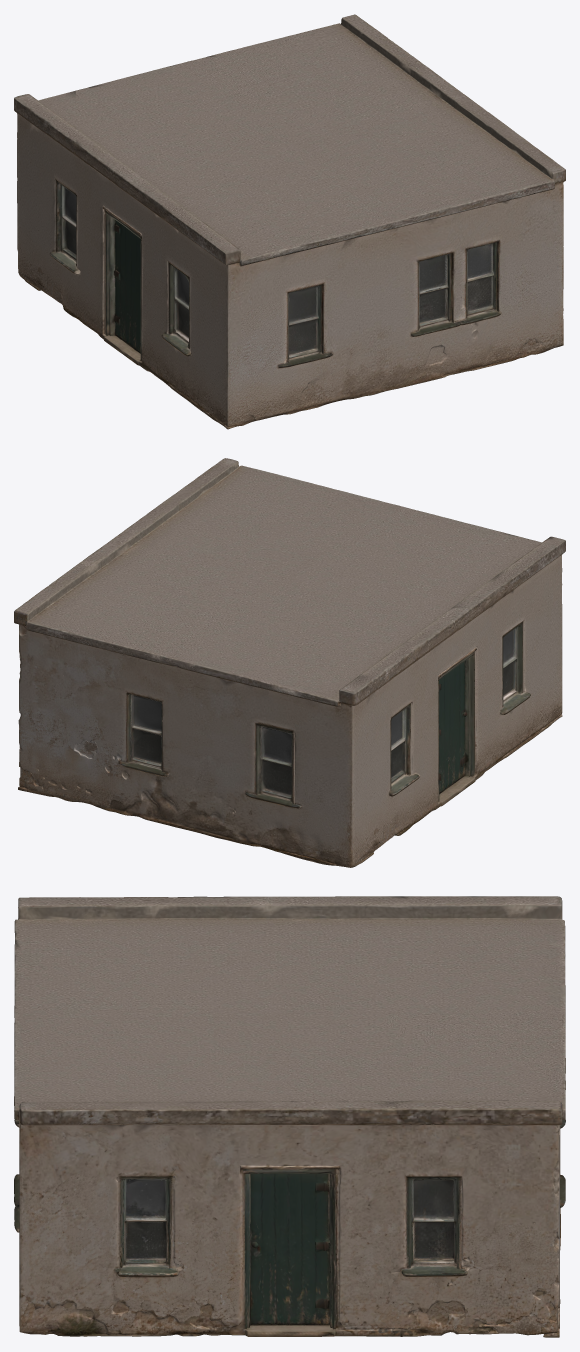
File: station01-tripo-v31.glb
3 views of the same model, one above another, from view 1: azimuth 30°, elevation 25°; view 2: azimuth 150°, elevation 25°; view 3: azimuth 270°, elevation 25° (orthographic). The views are drawn at different scales.
Visible parts, largest first — view 1: tripo_node_f7819a30-2740-40e4-ab8c-9bb6315d51c4; view 2: tripo_node_f7819a30-2740-40e4-ab8c-9bb6315d51c4; view 3: tripo_node_f7819a30-2740-40e4-ab8c-9bb6315d51c4.
Part boxes in pixels (<box>): tripo_node_f7819a30-2740-40e4-ab8c-9bb6315d51c4: <box>14,14,565,429</box>; tripo_node_f7819a30-2740-40e4-ab8c-9bb6315d51c4: <box>14,458,565,867</box>; tripo_node_f7819a30-2740-40e4-ab8c-9bb6315d51c4: <box>14,896,565,1337</box>.
Bounding box in the file's own units: 6.03 × 3 × 6.51.
1 material, 1 textured.
